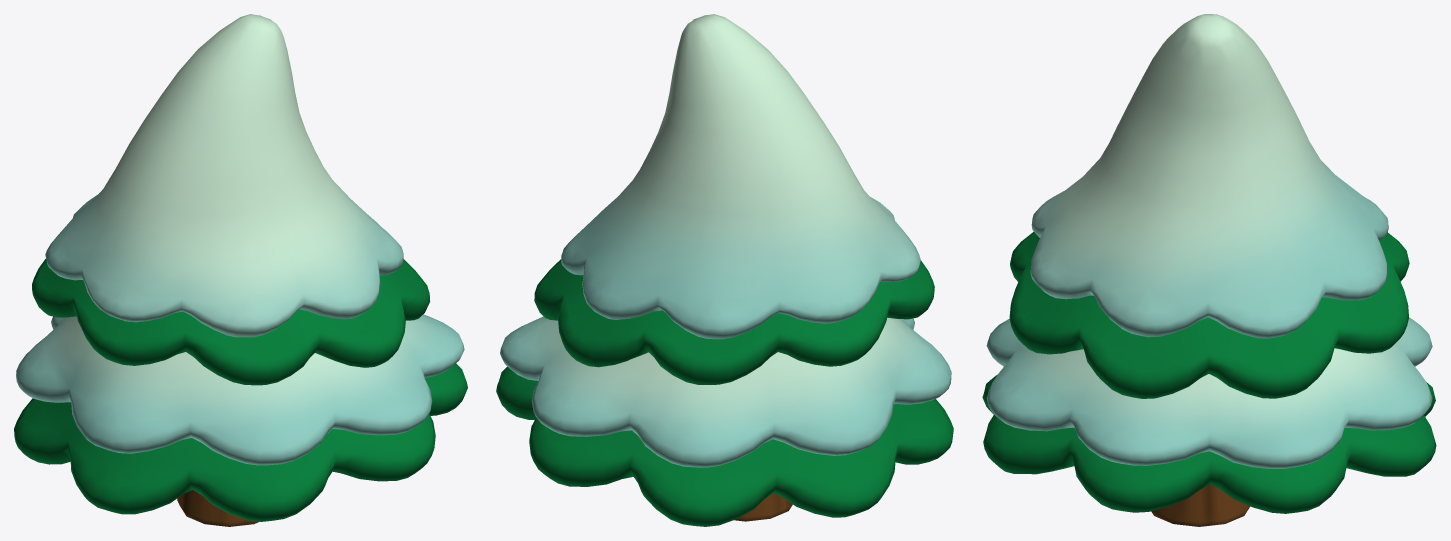
File: tree.fbx
3 renders of one model, left to right at view 1: azimuth 30°, elevation 25°; view 2: azimuth 150°, elevation 25°; view 3: azimuth 270°, elevation 25°, orthographic. The views are drawn at different scales.
Visible parts, largest first — view 1: tree; view 2: tree; view 3: tree.
Boxes of the visible parts, x1,y1,x2,y2 form: tree: (14,14,467,526); tree: (496,14,953,526); tree: (982,14,1436,526).
Size of the model in its own units: 22.76 by 27.8 by 22.64.
